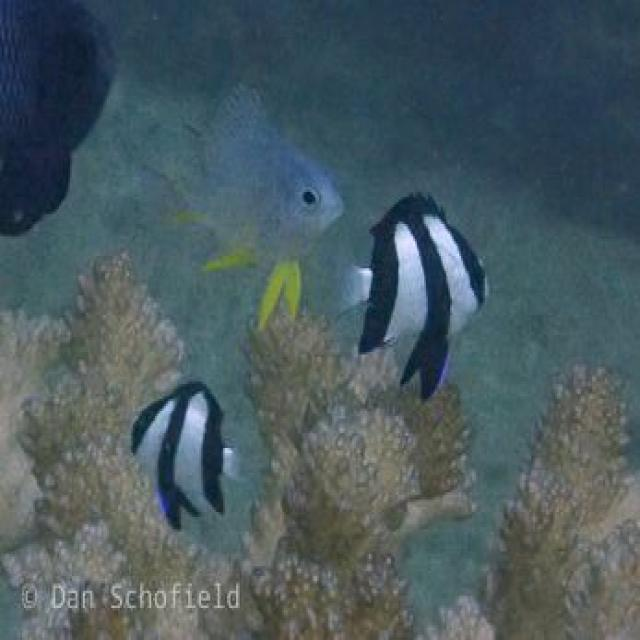ThreeStripedDamselfish: (341, 192, 491, 404), (131, 382, 242, 532)
